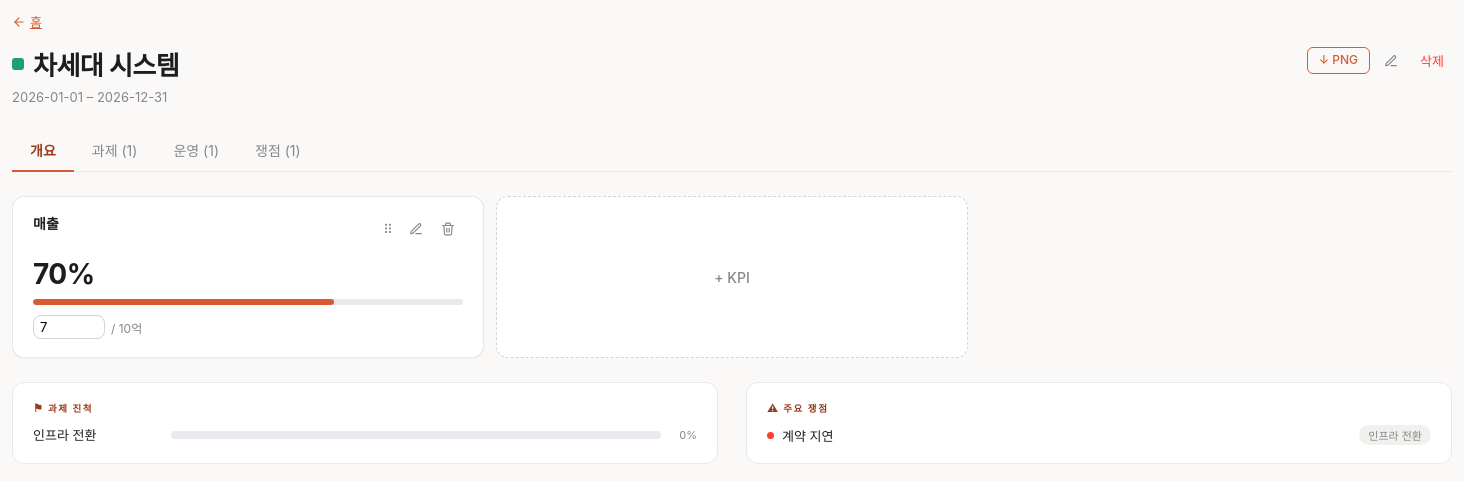
운영 탭으로 전환하면 운영업무가 보인다
Click the button "운영 (1)": click(196, 151) 155,130 -> 237,172
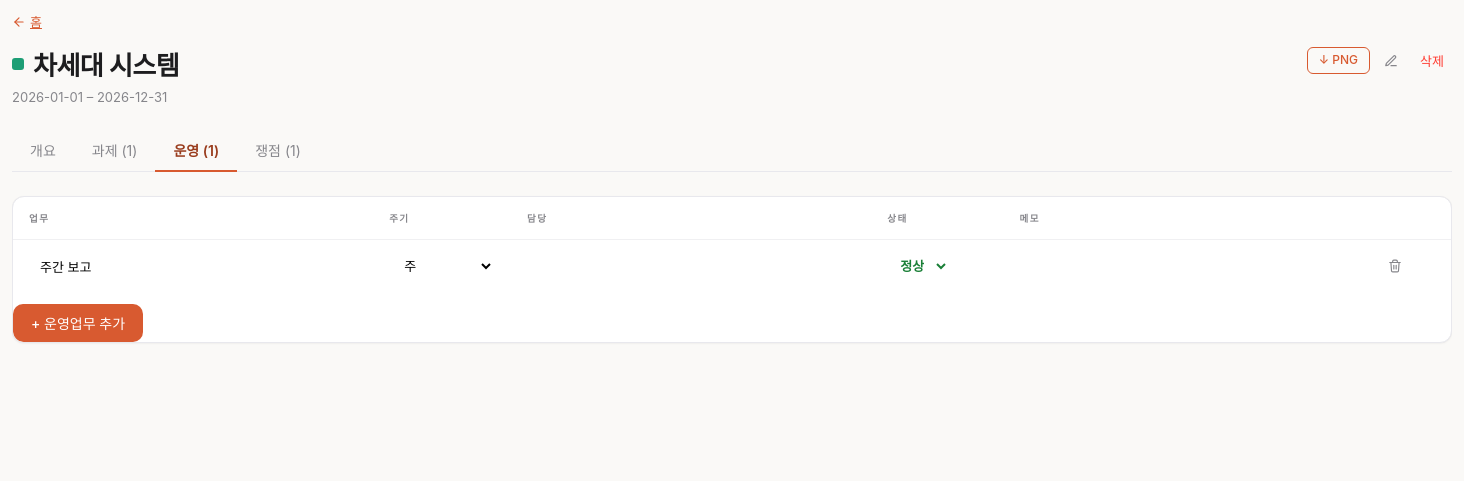
Expected: the field showing "주간 보고" is shown, 29,251 -> 357,281
